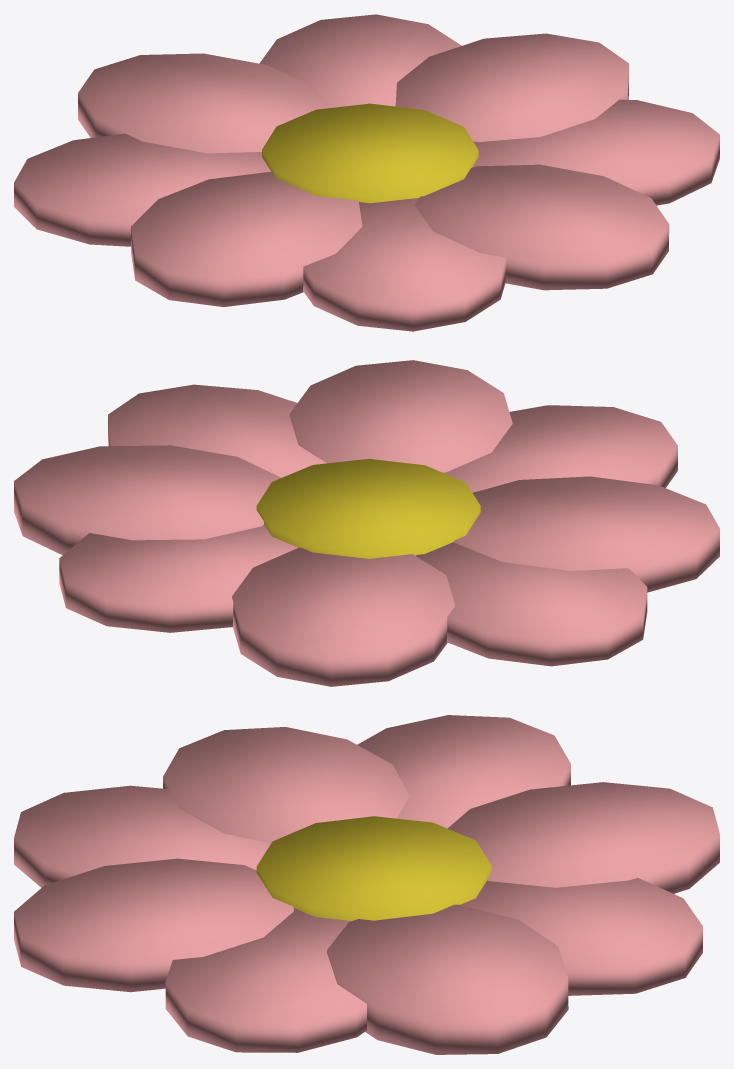
File: fence_flower.fbx
3 renders of one model, top to bottom at view 1: azimuth 30°, elevation 25°; view 2: azimuth 150°, elevation 25°; view 3: azimuth 270°, elevation 25°, orthographic. The views are drawn at different scales.
Parts seen in each view (by area): view 1: 1_flowerPlatform-01; view 2: 1_flowerPlatform-01; view 3: 1_flowerPlatform-01.
Boxes of the visible parts, <box> form: 1_flowerPlatform-01: <box>14,14,719,331</box>; 1_flowerPlatform-01: <box>14,360,719,686</box>; 1_flowerPlatform-01: <box>14,715,719,1054</box>.
Size of the model in its own units: 248 by 16.26 by 238.
